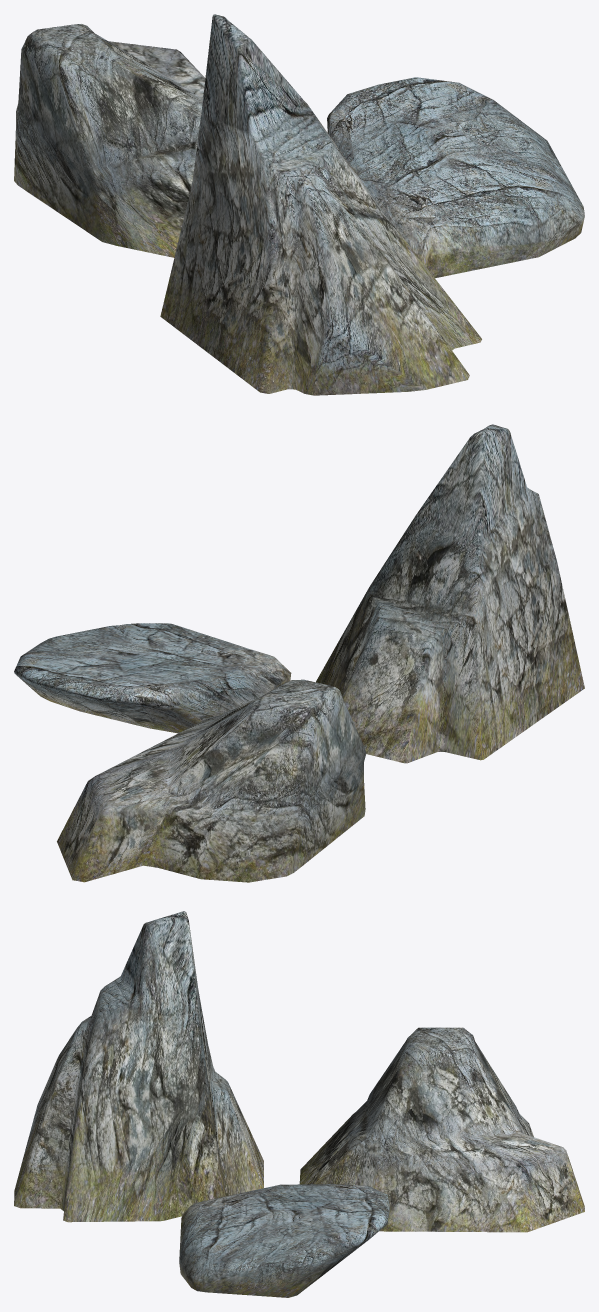
File: rocks_package_01.FBX
3 renders of one model, top to bottom at view 1: azimuth 30°, elevation 25°; view 2: azimuth 150°, elevation 25°; view 3: azimuth 270°, elevation 25°, orthographic. The views are drawn at different scales.
Parts seen in each view (by area): view 1: rock_02, rock_01, rock_03; view 2: rock_02, rock_01, rock_03; view 3: rock_02, rock_01, rock_03.
Part boxes in pixels (box(x1,y1,x2,y2)): rock_02: box(160, 14, 481, 395); rock_01: box(14, 24, 205, 257); rock_03: box(327, 77, 584, 278); rock_02: box(316, 424, 584, 763); rock_01: box(57, 679, 366, 882); rock_03: box(14, 623, 291, 733); rock_02: box(14, 911, 263, 1222); rock_01: box(299, 1027, 584, 1232); rock_03: box(179, 1184, 389, 1297).
Bounding box in the file's own units: 40.17 × 28.62 × 60.82.
Materials: 3 (3 with a texture image).
